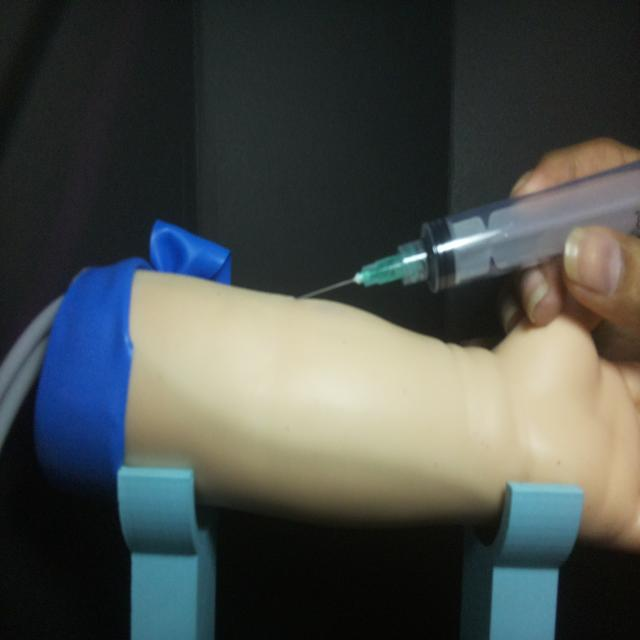15deg: (294, 156, 638, 304)
